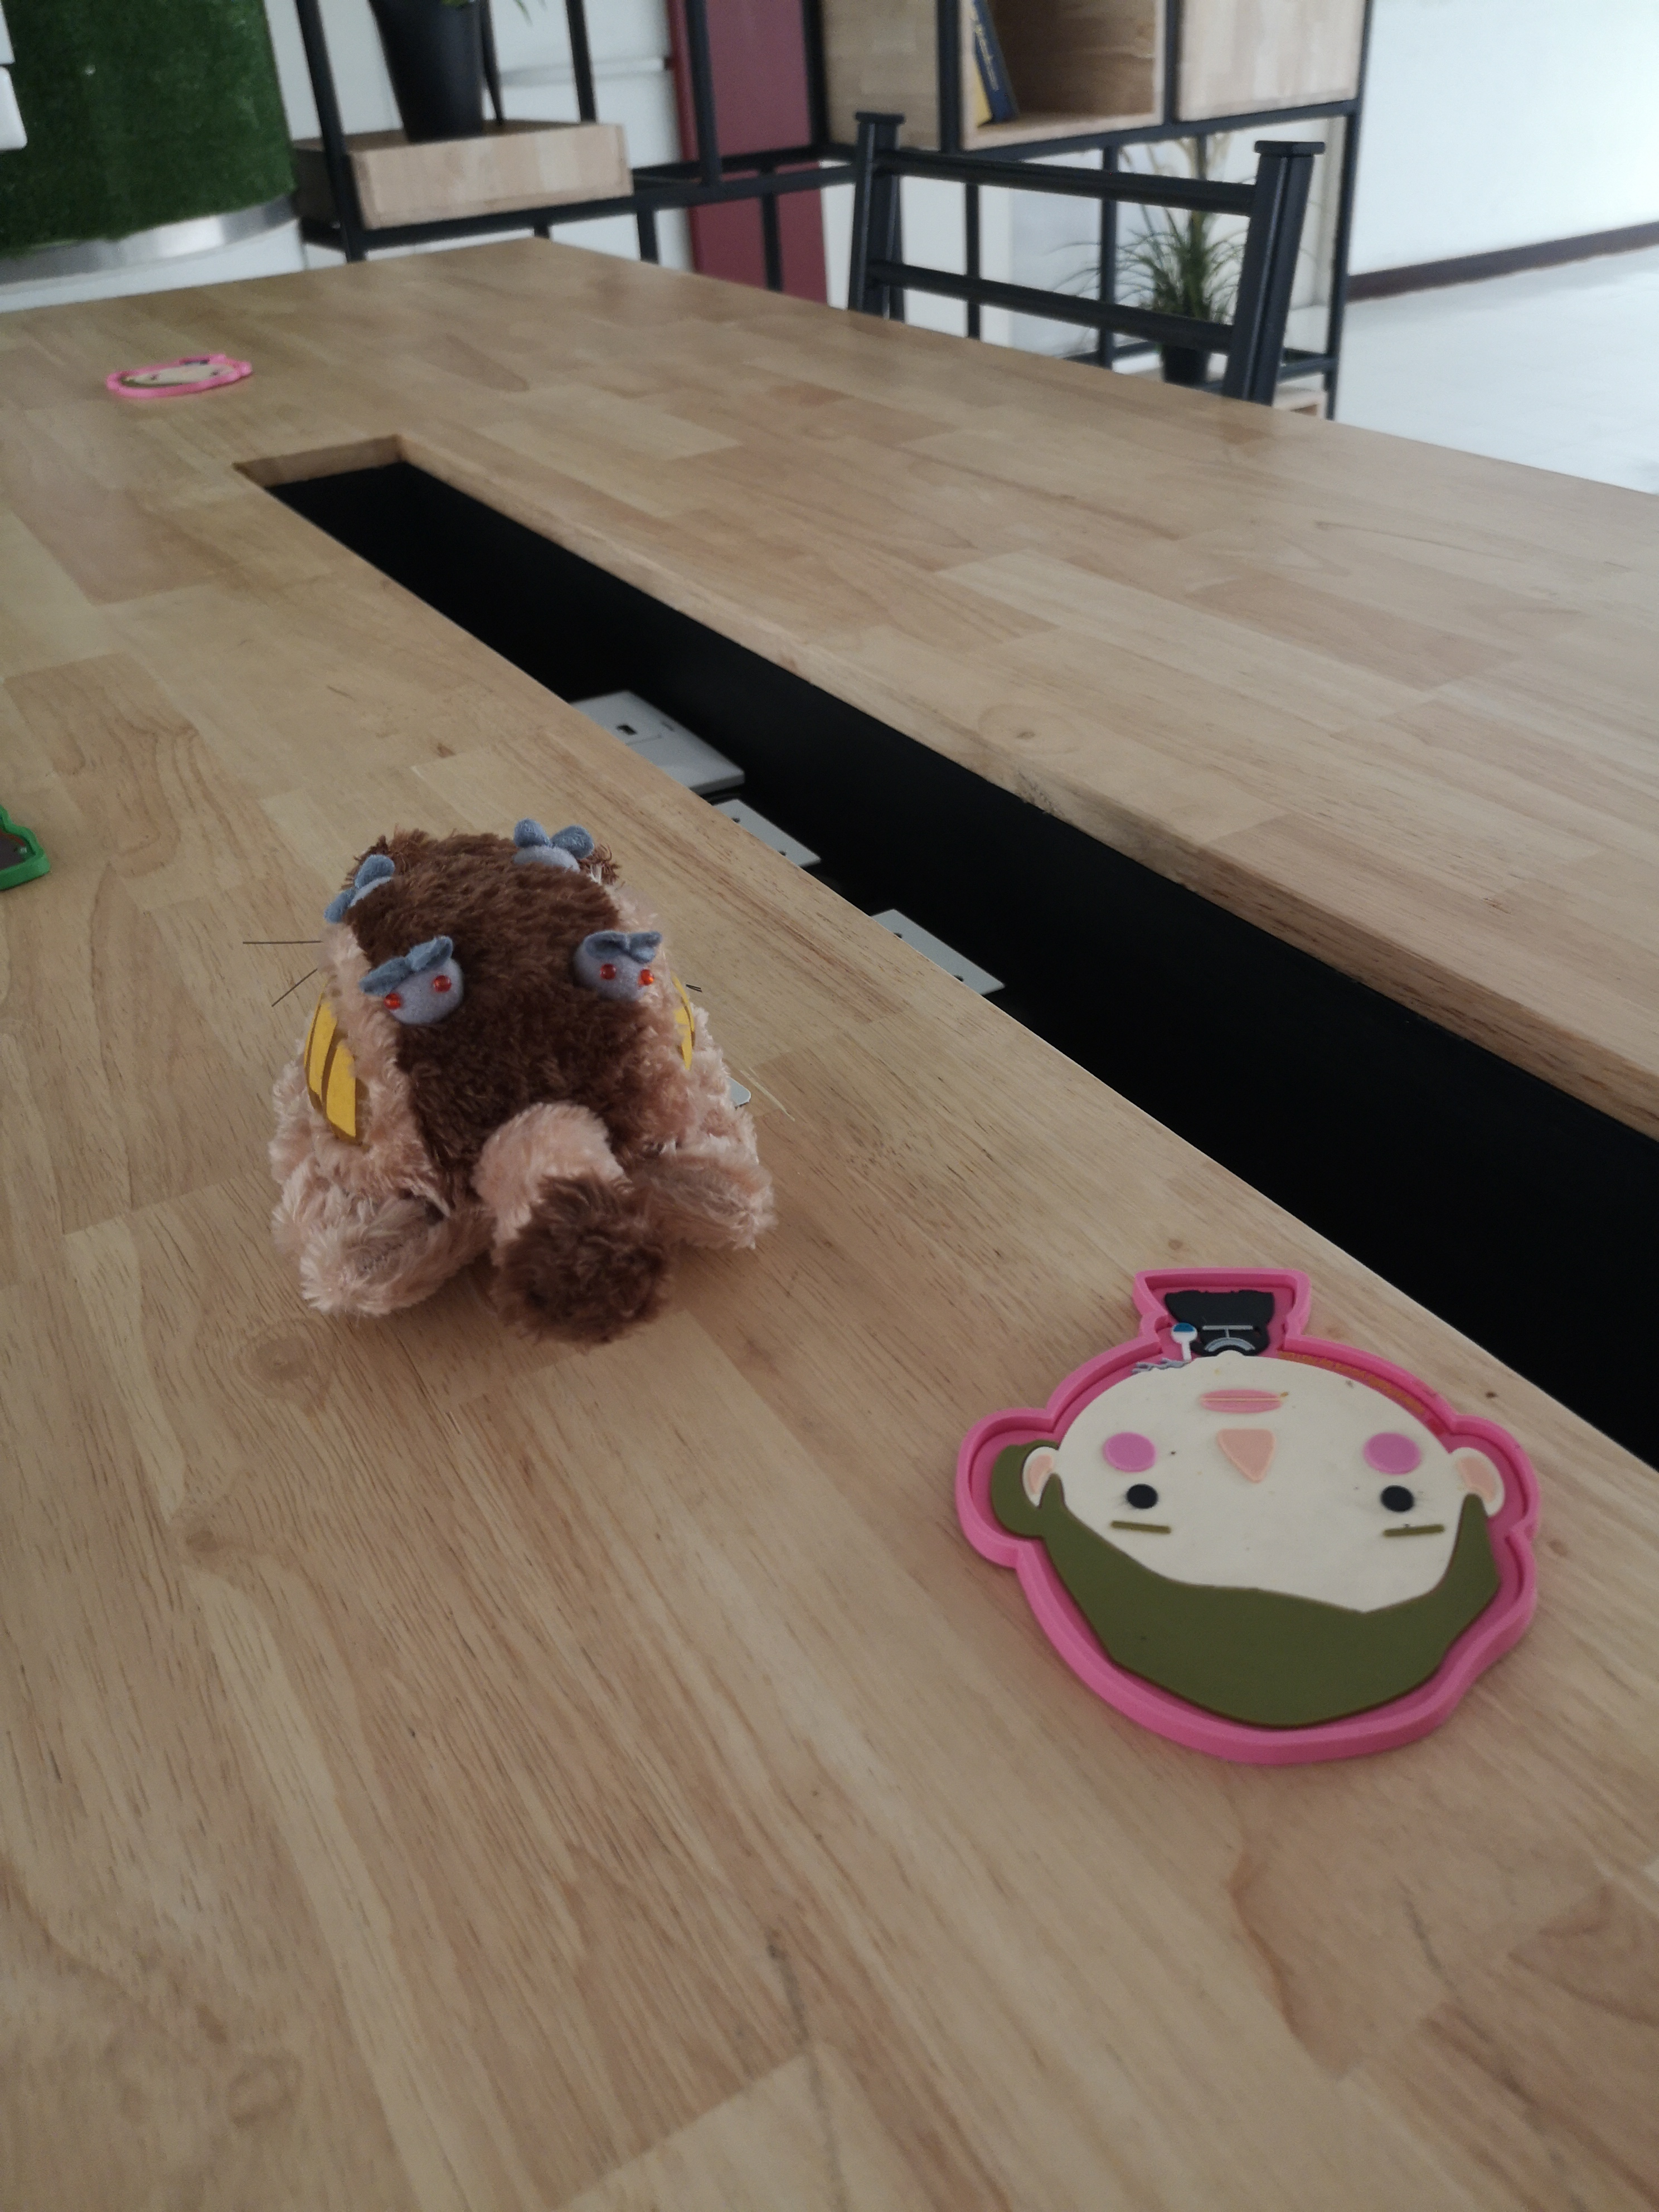nekobus: (232, 808, 798, 1348)
